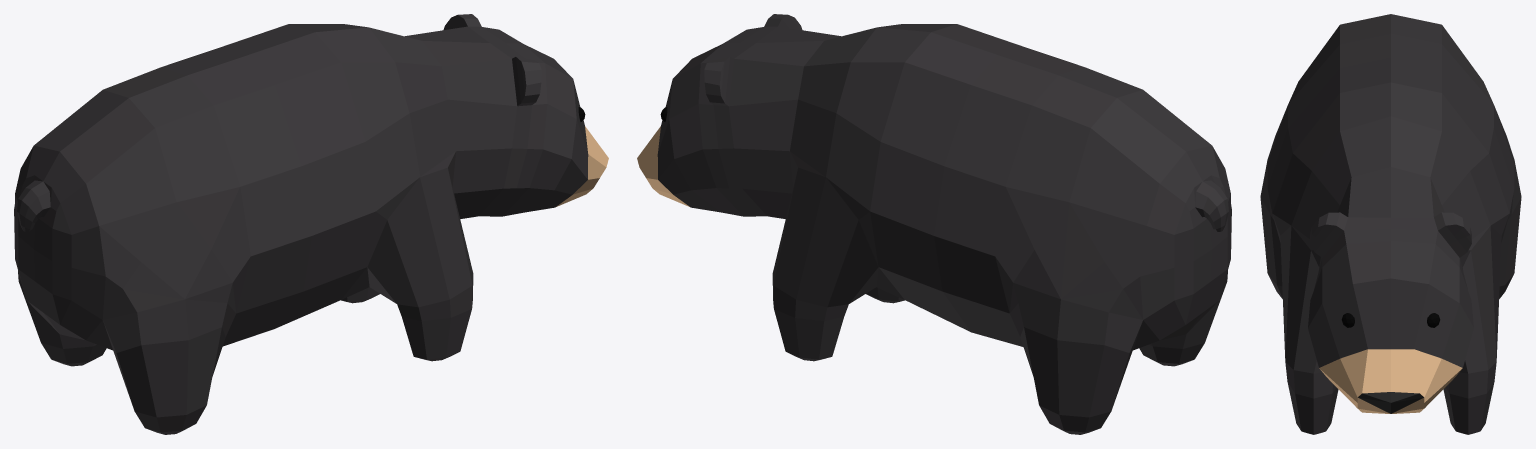
Rendered from Black bear.fbx.
3 renders of one model, left to right at view 1: azimuth 30°, elevation 25°; view 2: azimuth 150°, elevation 25°; view 3: azimuth 270°, elevation 25°, orthographic. The views are drawn at different scales.
Parts seen in each view (by area): view 1: Plane; view 2: Plane; view 3: Plane.
Part boxes in pixels (x1=…): Plane: x1=14, y1=14, x2=608, y2=434; Plane: x1=637, y1=14, x2=1231, y2=434; Plane: x1=1260, y1=14, x2=1521, y2=434.
Bounding box in the file's own units: 128 × 66.65 × 51.22.
